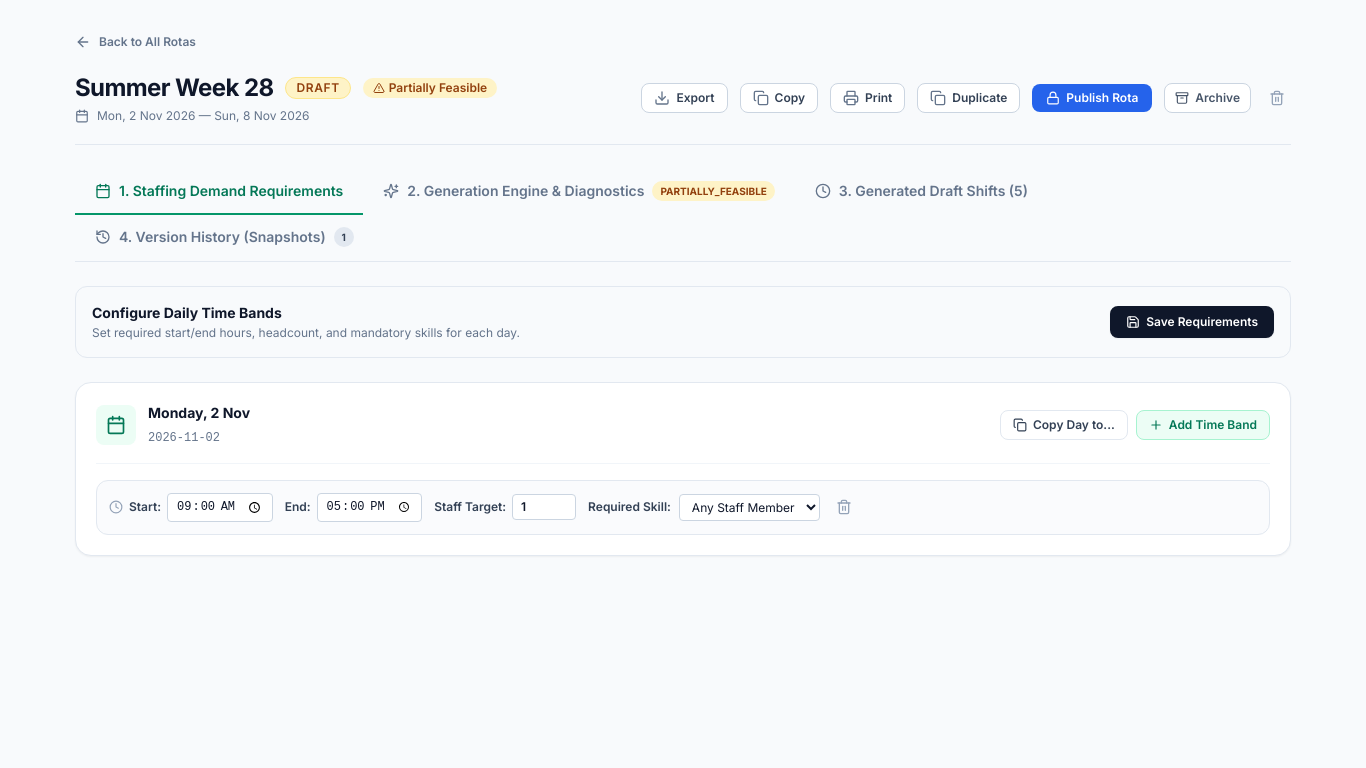
Scenario: Milestone 5 Frontend - Rota Snapshots, Diagnostics & Transparency › displays relaxation suggestions distinguishing confirmed findings from recommendations
Expected: the heading "Summer Week 28" is shown, [75,72,274,104]
Click the button "2. Generation Engine & Diagnostics partially_feasible".
click(579, 192)  # box [363,169,795,215]
(page scrolled)
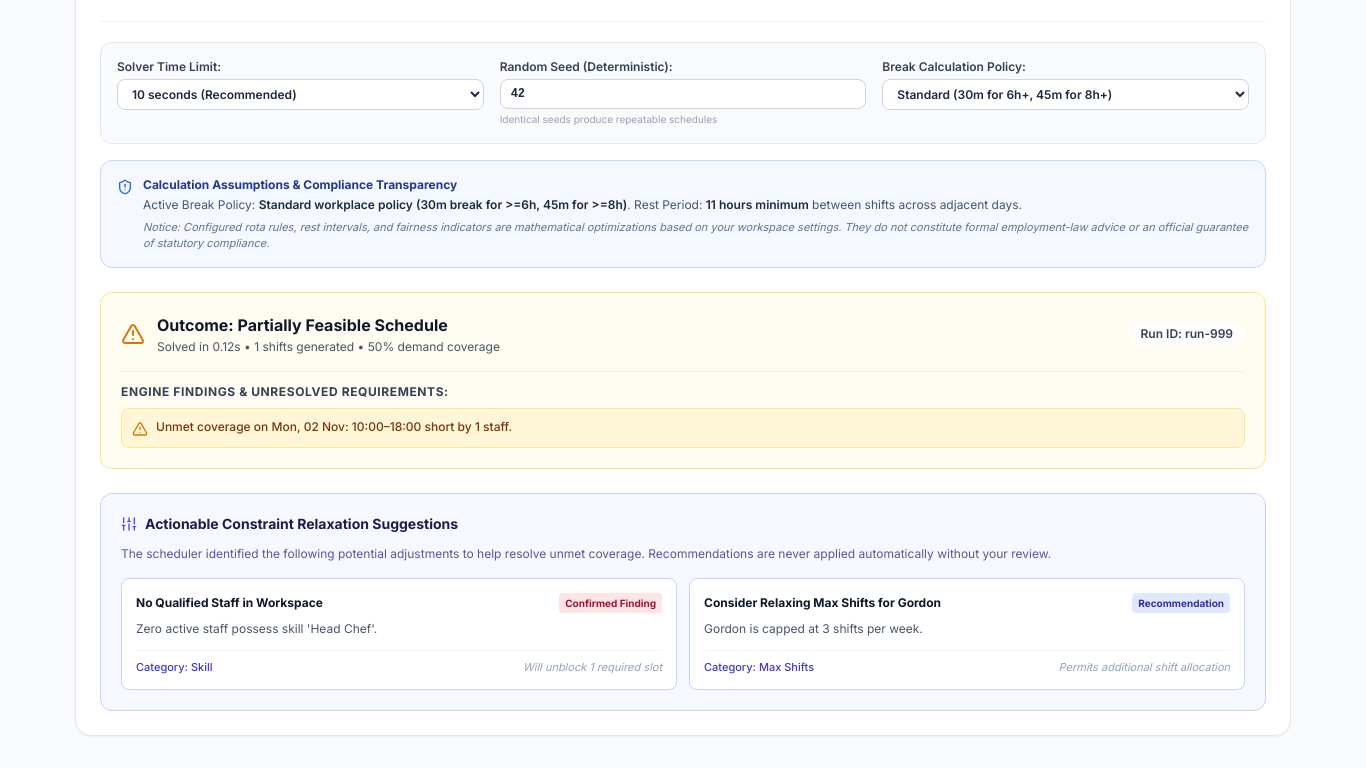
Result: the heading "Actionable Constraint Relaxation Suggestions" is shown at [145,514,458,534]
Result: the text "No Qualified Staff in Workspace" is shown at [136,594,323,610]
Result: the text "Confirmed Finding" is shown at [559,592,662,612]
